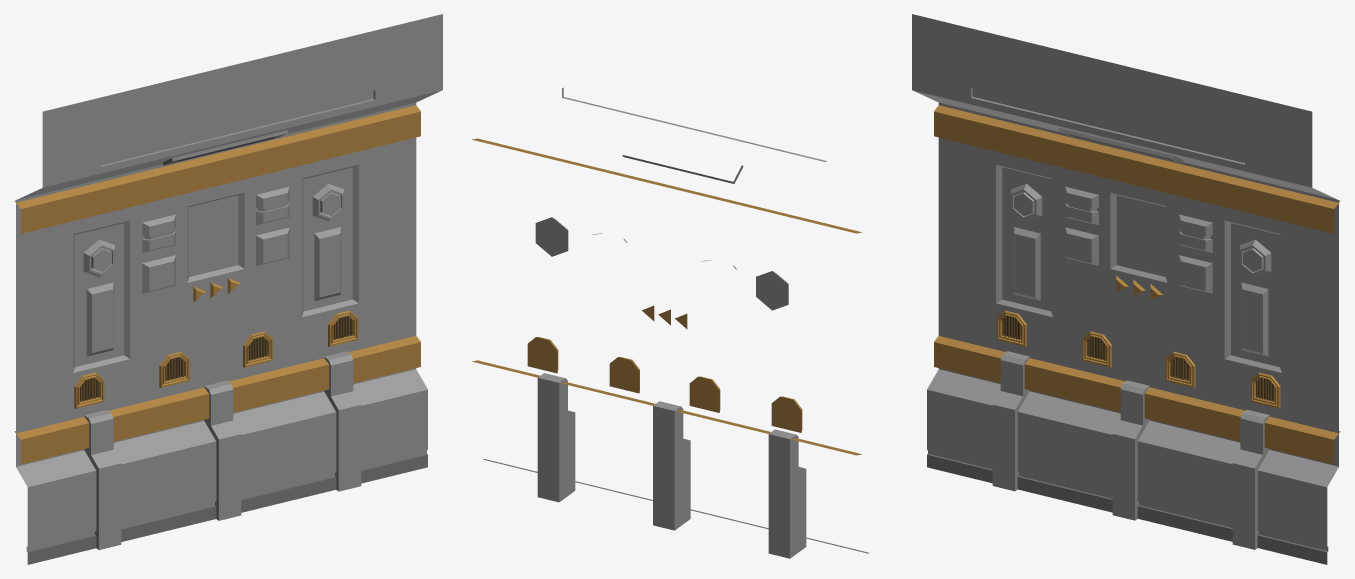
3 renders of one model, left to right at view 1: azimuth 30°, elevation 25°; view 2: azimuth 150°, elevation 25°; view 3: azimuth 330°, elevation 25°, orthographic. The views are drawn at different scales.
Visible parts, largest first — view 1: Wall_3; view 2: Wall_3; view 3: Wall_3.
Boxes of the visible parts, <box> form: Wall_3: <box>14,14,442,564</box>; Wall_3: <box>471,87,869,558</box>; Wall_3: <box>912,14,1340,564</box>.
Size of the model in its own units: 4 by 4.43 by 0.523.
